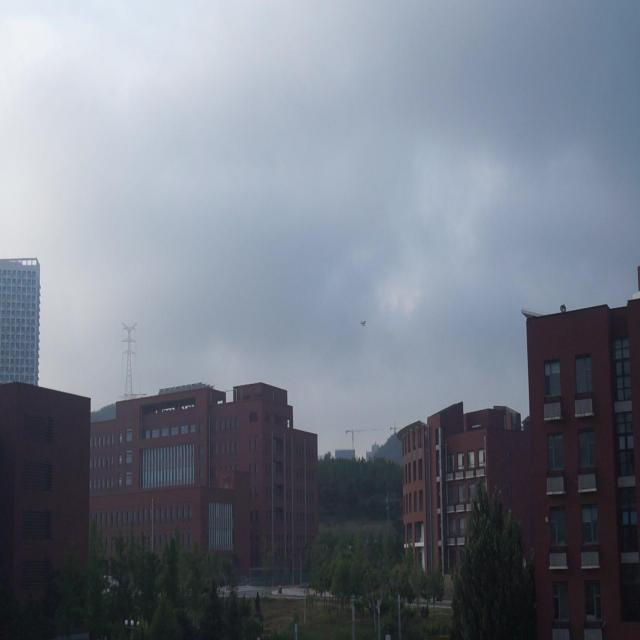UAV: (360, 320, 367, 327)
